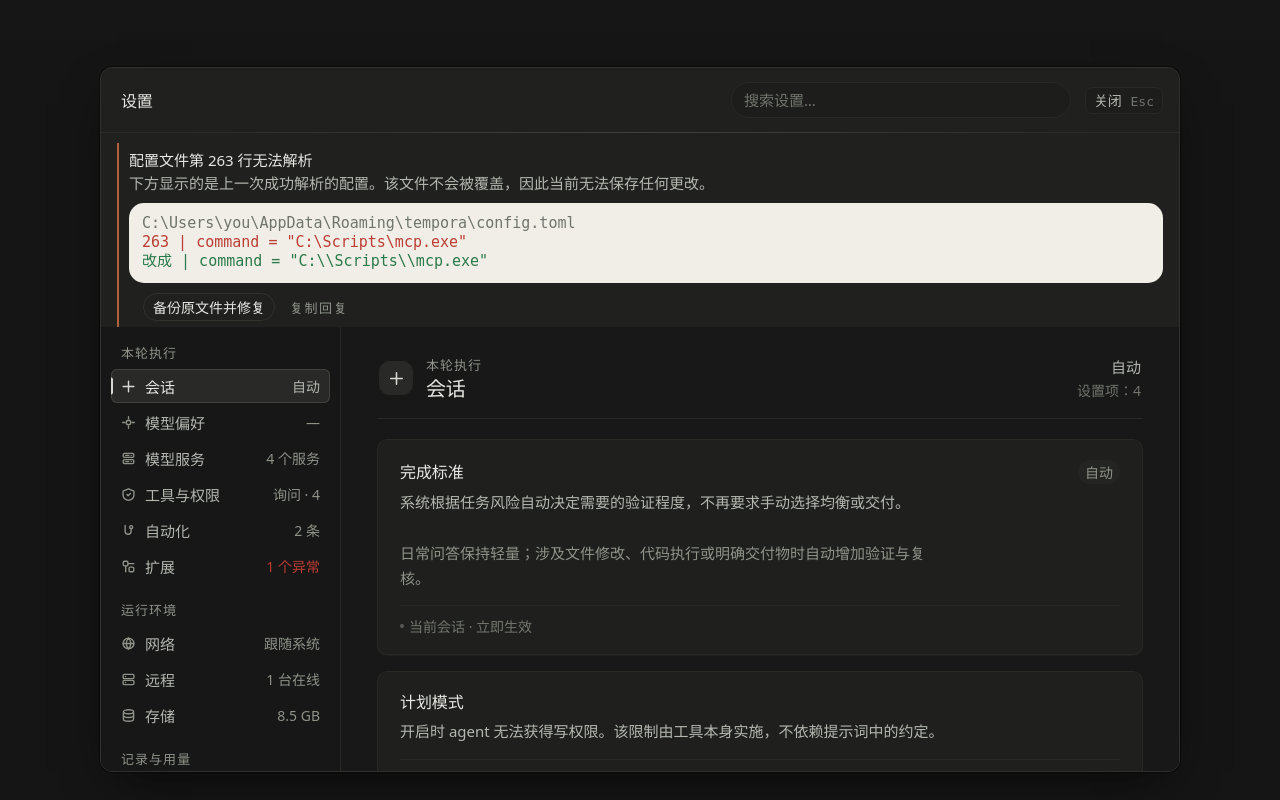
it: finding a setting › says so rather than showing nothing
Type "zzzz" into the field labelled "搜索设置".
click(901, 100); type("zzzz")  # box left=731, top=82, right=1071, bottom=118
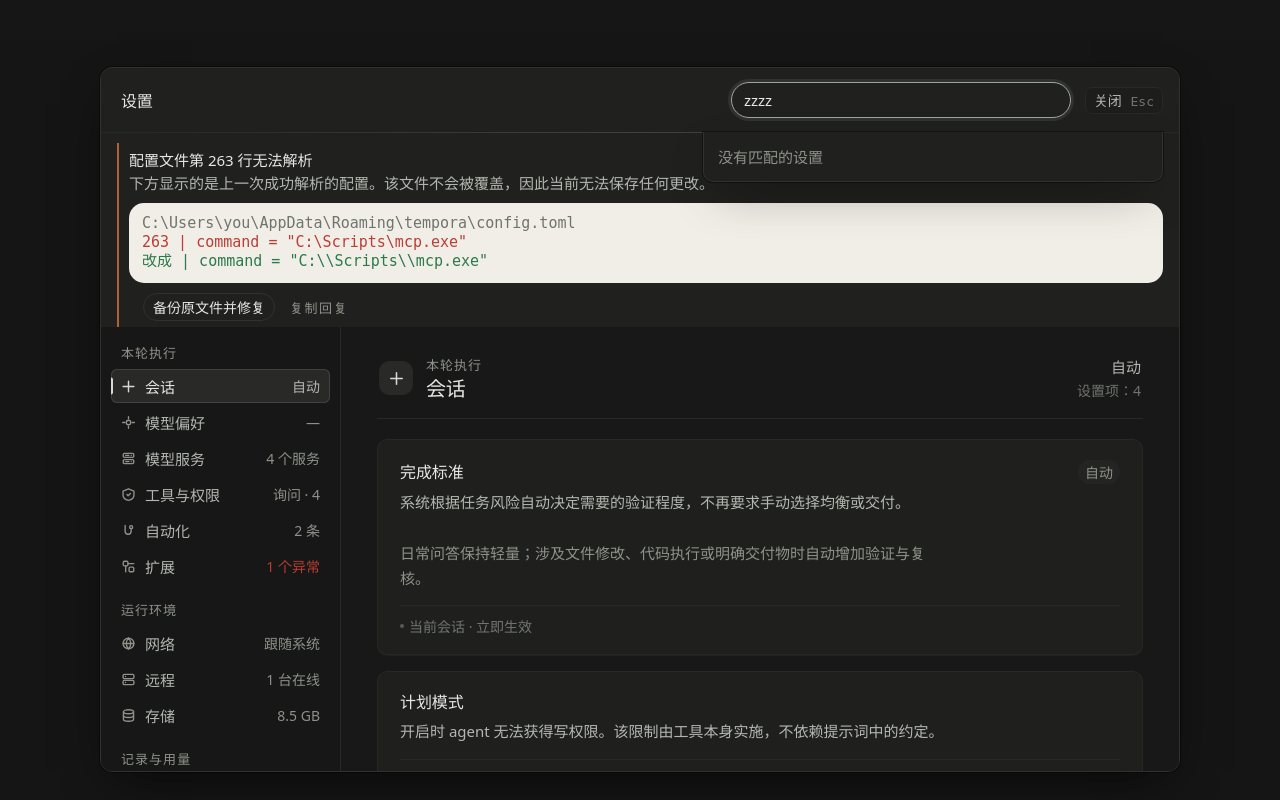
Expected: the text "没有匹配的设置" is shown, left=718, top=147, right=823, bottom=167
